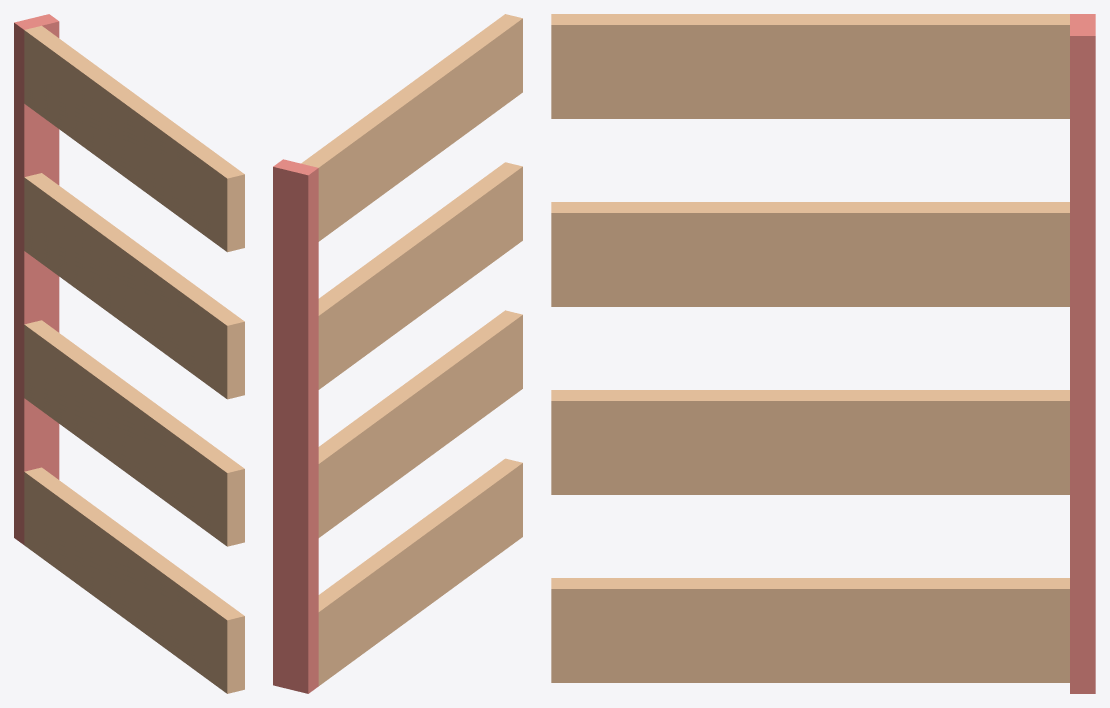
Rendered from Building1_modular.fbx.
The picture shows the model from 3 angles, left to right: view 1: azimuth 30°, elevation 25°; view 2: azimuth 150°, elevation 25°; view 3: azimuth 270°, elevation 25°; orthographic projection. The views are drawn at different scales.
Parts seen in each view (by area): view 1: BuildingBorer__2_, BuildingBorder__4_, BuildingBorder__8_, BuildingBorder__6_, BuildingBorder; view 2: BuildingBorder, BuildingBorder__8_, BuildingBorer__2_, BuildingBorder__4_, BuildingBorder__6_; view 3: BuildingBorer__2_, BuildingBorder__4_, BuildingBorder__6_, BuildingBorder__8_, BuildingBorder.
Boxes of the visible parts, x1=… form: BuildingBorer__2_: x1=24, y1=467, x2=244, y2=693; BuildingBorder__4_: x1=24, y1=320, x2=244, y2=546; BuildingBorder__8_: x1=24, y1=25, x2=244, y2=252; BuildingBorder__6_: x1=24, y1=173, x2=244, y2=399; BuildingBorder: x1=14, y1=14, x2=59, y2=544; BuildingBorder: x1=273, y1=159, x2=318, y2=693; BuildingBorder__8_: x1=301, y1=14, x2=522, y2=241; BuildingBorer__2_: x1=318, y1=458, x2=522, y2=685; BuildingBorder__4_: x1=318, y1=310, x2=522, y2=537; BuildingBorder__6_: x1=318, y1=162, x2=522, y2=389; BuildingBorer__2_: x1=551, y1=578, x2=1069, y2=682; BuildingBorder__4_: x1=551, y1=390, x2=1069, y2=494; BuildingBorder__6_: x1=551, y1=202, x2=1069, y2=306; BuildingBorder__8_: x1=551, y1=14, x2=1069, y2=118; BuildingBorder: x1=1070, y1=14, x2=1095, y2=693.
Size of the model in its own units: 100 by 1400 by 1050.
